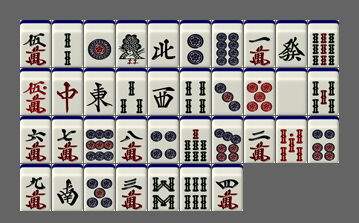0m: (20, 68, 51, 115)
0p: (244, 68, 275, 115)
0s: (276, 116, 307, 163)
1m: (244, 20, 275, 67)
1p: (84, 20, 115, 67)
1s: (116, 20, 147, 67)
1z: (84, 68, 115, 115)
2m: (244, 116, 275, 163)
2p: (180, 20, 211, 67)
2s: (52, 20, 83, 67)
2z: (52, 164, 83, 211)
3m: (116, 164, 147, 211)
3p: (212, 68, 243, 115)
3s: (116, 68, 147, 115)
3z: (148, 68, 179, 115)
4m: (212, 164, 243, 211)
4p: (148, 116, 179, 163)
4s: (180, 68, 211, 115)
4z: (148, 20, 179, 67)
5m: (20, 20, 51, 67)
5p: (84, 164, 115, 211)
5s: (308, 68, 339, 115)
5z: (276, 68, 307, 115)
6m: (20, 116, 51, 163)
6p: (308, 116, 339, 163)
6s: (180, 164, 211, 211)
6z: (276, 20, 307, 67)
7m: (52, 116, 83, 163)
7p: (212, 116, 243, 163)
7s: (180, 116, 211, 163)
7z: (52, 68, 83, 115)
8m: (116, 116, 147, 163)
8p: (212, 20, 243, 67)
8s: (148, 164, 179, 211)
9m: (20, 164, 51, 211)
9p: (84, 116, 115, 163)
9s: (308, 20, 339, 67)
